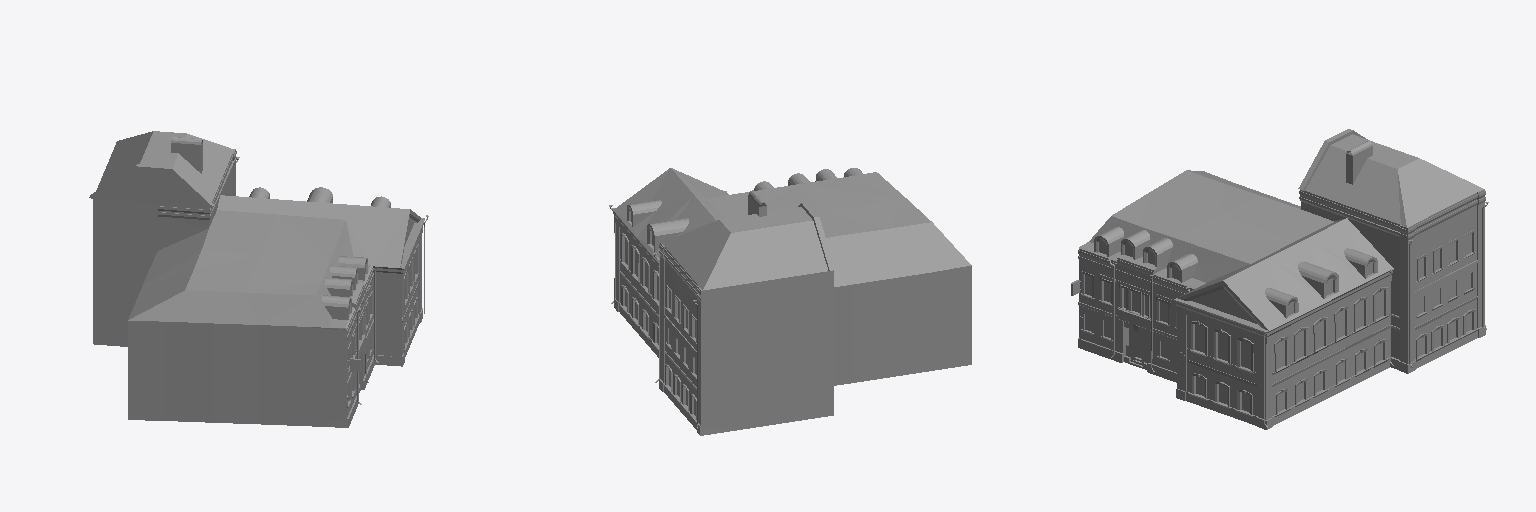
Rendered from school.obj.
3 renders of one model, left to right at view 1: azimuth 30°, elevation 25°; view 2: azimuth 150°, elevation 25°; view 3: azimuth 270°, elevation 25°, orthographic.
Visible parts, largest first — view 1: domik; view 2: domik; view 3: domik.
Boxes of the visible parts, x1=… form: domik: x1=89, y1=131, x2=428, y2=427; domik: x1=609, y1=168, x2=971, y2=435; domik: x1=1071, y1=129, x2=1488, y2=429.
Bounding box in the file's own units: 303 × 167 × 330.